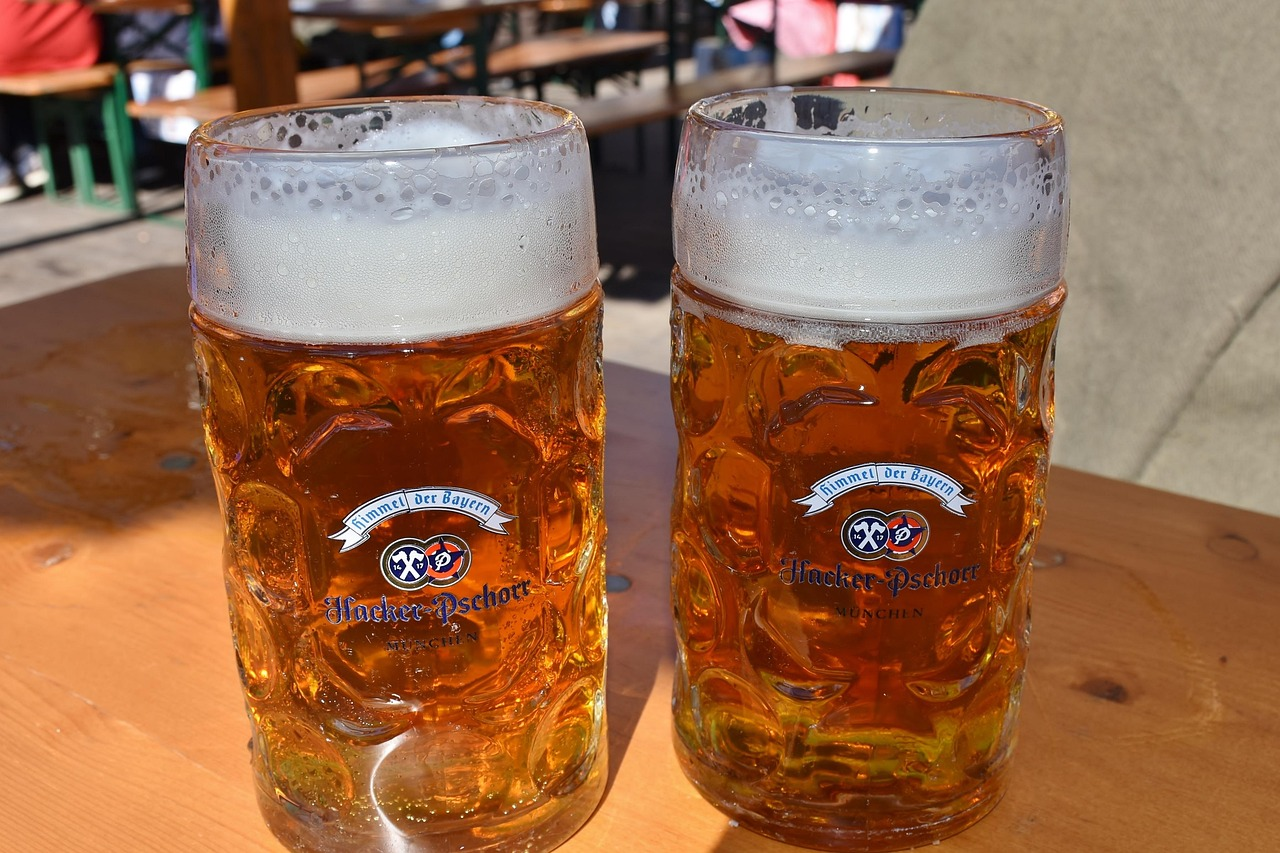mug: (641, 54, 1133, 853), (141, 77, 658, 826)
